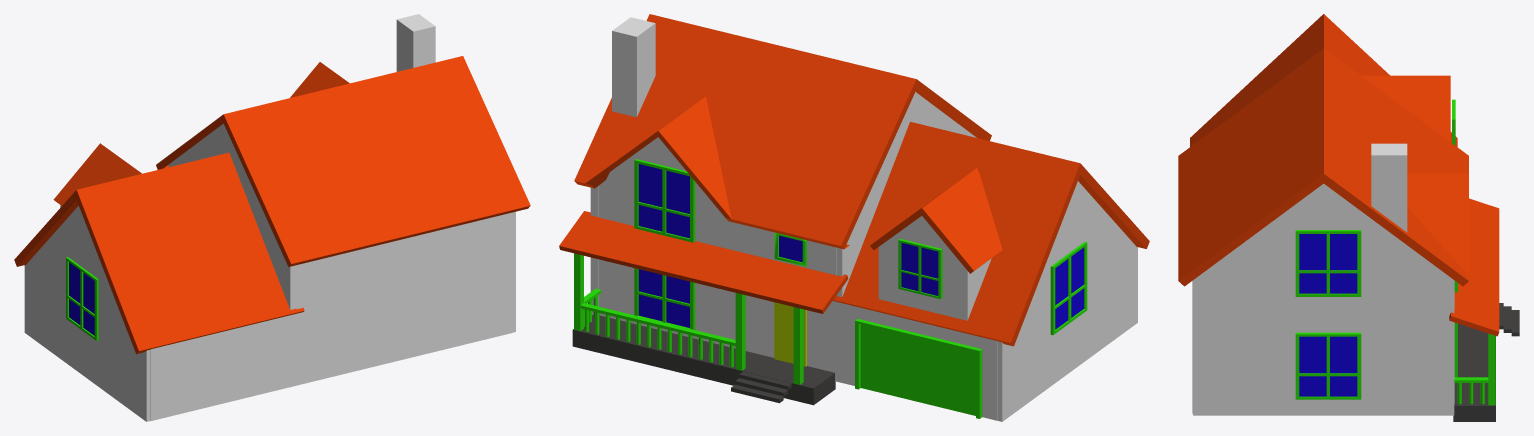
Rendered from USAHouse_01.fbx.
The picture shows the model from 3 angles, left to right: view 1: azimuth 30°, elevation 25°; view 2: azimuth 150°, elevation 25°; view 3: azimuth 270°, elevation 25°; orthographic projection. The views are drawn at different scales.
Visible parts, largest first — view 1: roof; view 2: roof; view 3: roof.
Part boxes in pixels (<box>): roof: <box>14,14,530,421</box>; roof: <box>559,14,1149,421</box>; roof: <box>1178,14,1519,421</box>.
Bounding box in the file's own units: 1075 × 669 × 766.
